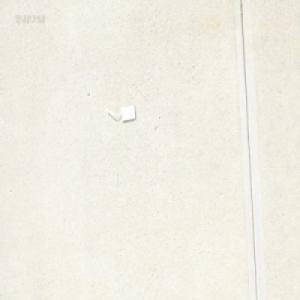LuggageTag: (105, 104, 136, 121)
